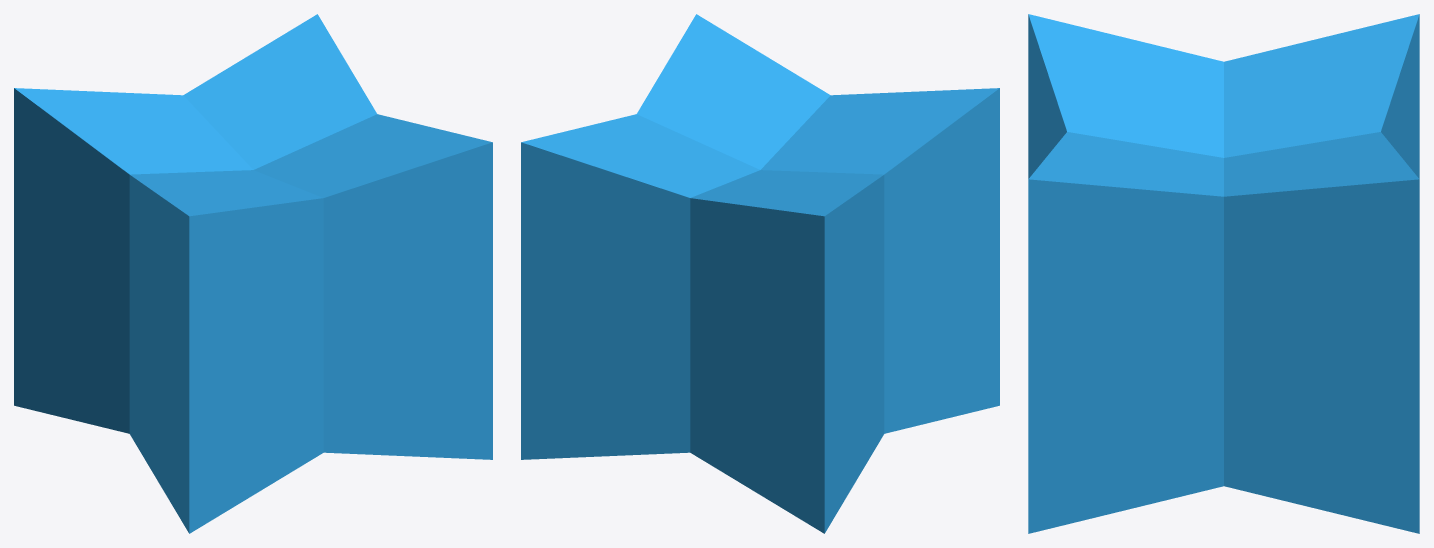
The model's file is WizardBall.glb.
3 views of the same model, side by side, from view 1: azimuth 30°, elevation 25°; view 2: azimuth 150°, elevation 25°; view 3: azimuth 270°, elevation 25° (orthographic). The views are drawn at different scales.
Visible parts, largest first — view 1: Cube; view 2: Cube; view 3: Cube.
Part boxes in pixels (box(x1,y1,x2,y2)): Cube: box(14, 14, 492, 533); Cube: box(521, 14, 999, 533); Cube: box(1028, 14, 1419, 533).
Bounding box in the file's own units: 2 × 2 × 2.
Materials: 1 (1 with a texture image).
